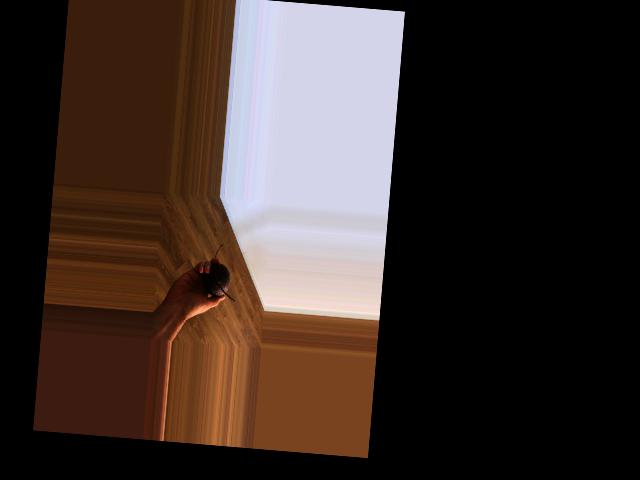beet: (202, 241, 238, 300)
